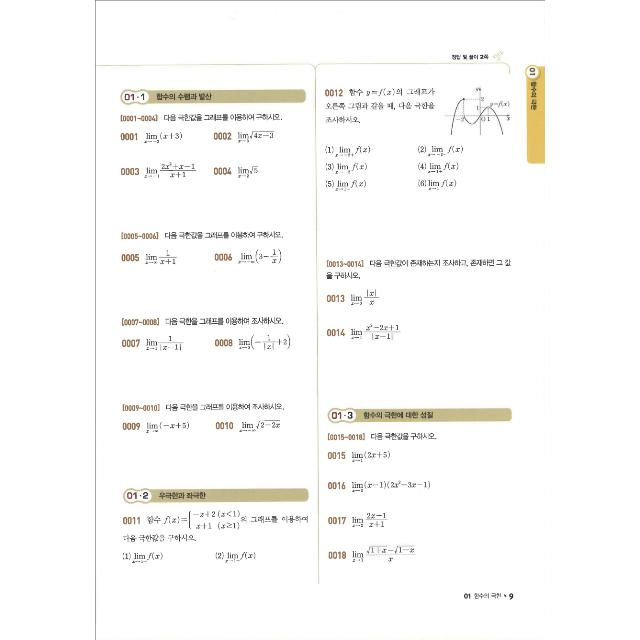many_in_one: (320, 251, 518, 289), (119, 396, 288, 416), (118, 226, 286, 244), (115, 108, 288, 125), (116, 311, 294, 327), (324, 428, 441, 446)
short: (319, 80, 516, 202), (116, 508, 312, 568)
small: (323, 474, 437, 500), (324, 540, 421, 570), (114, 160, 202, 187), (210, 331, 298, 357), (324, 318, 404, 346), (213, 247, 305, 270), (208, 162, 300, 184), (119, 332, 199, 356), (211, 414, 289, 438), (116, 248, 208, 268), (210, 125, 296, 146), (324, 508, 396, 532), (322, 285, 388, 311), (323, 443, 399, 465), (119, 418, 198, 437), (116, 128, 196, 146)
